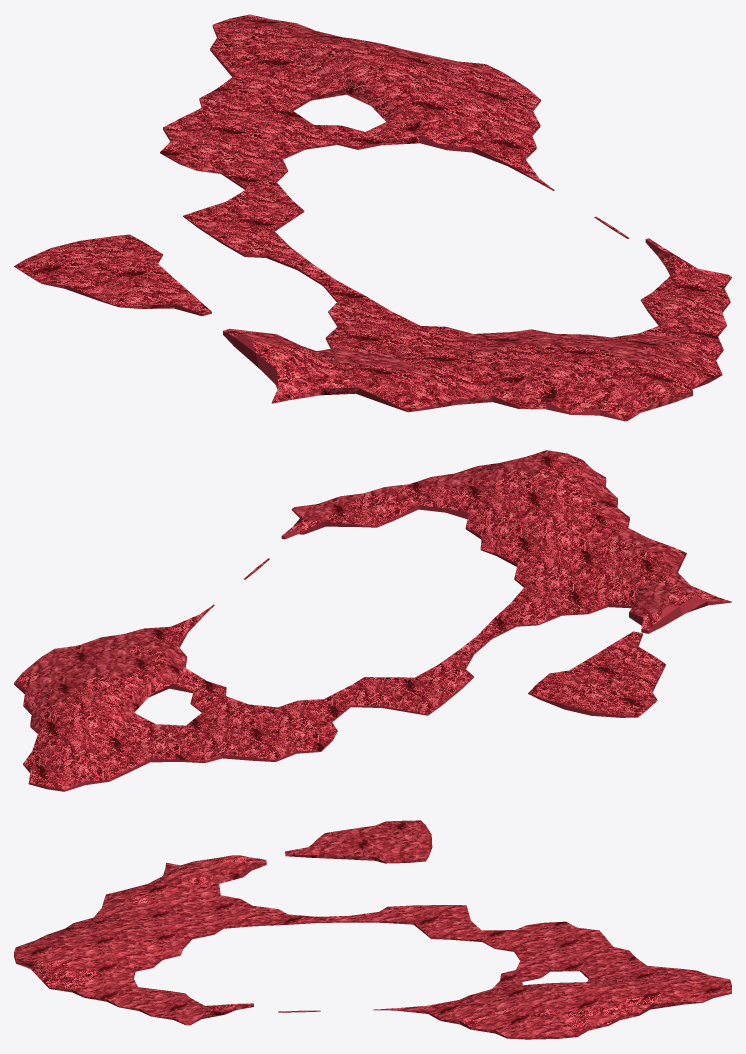
File: red_fallen_leave3.glb
3 views of the same model, one above another, from view 1: azimuth 30°, elevation 25°; view 2: azimuth 150°, elevation 25°; view 3: azimuth 270°, elevation 25° (orthographic). The views are drawn at different scales.
Parts seen in each view (by area): view 1: Icosphere.002; view 2: Icosphere.002; view 3: Icosphere.002.
Boxes of the visible parts, x1,y1,x2,y2 form: Icosphere.002: [14, 14, 731, 421]; Icosphere.002: [14, 450, 731, 791]; Icosphere.002: [14, 820, 731, 1039].
Size of the model in its own units: 2.88 by 0.152 by 4.33.
Materials: 1 (1 with a texture image).
